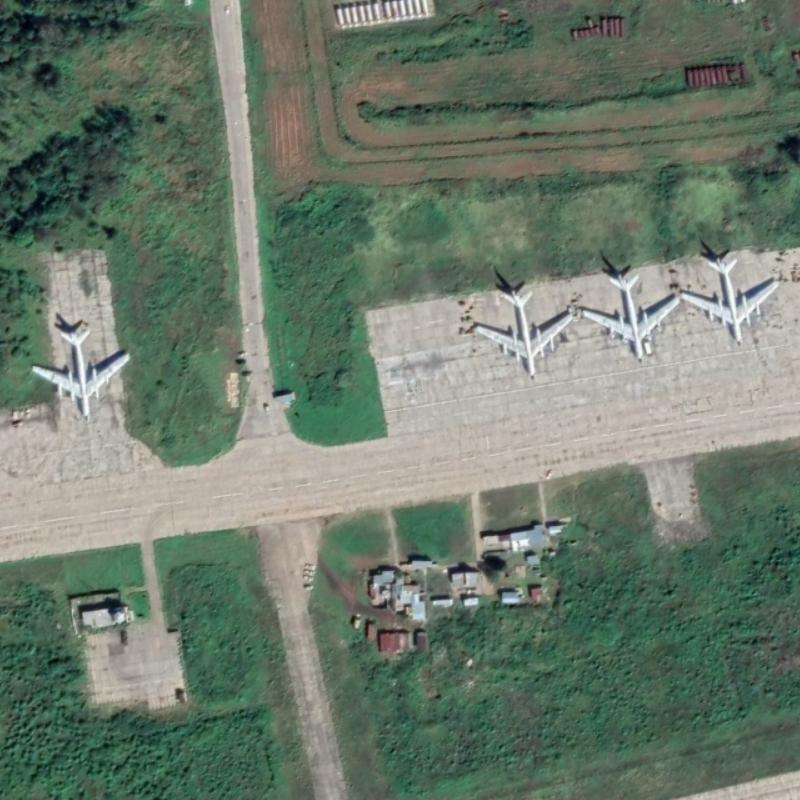A17: (24, 318, 133, 424), (467, 286, 577, 381), (677, 252, 783, 348), (578, 268, 682, 364)
